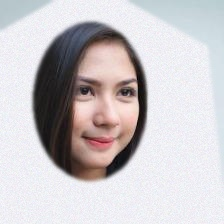Mukena: (0, 28, 202, 224)
